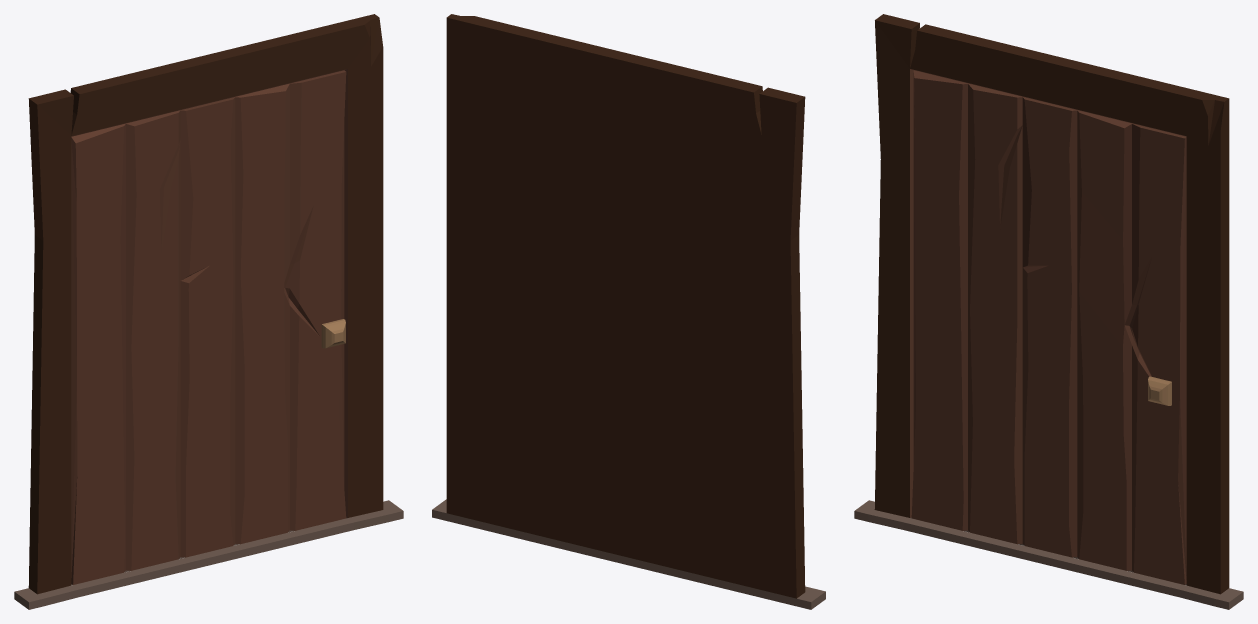
The model's file is tahta_kapi_acilir.fbx.
The picture shows the model from 3 angles, left to right: view 1: azimuth 30°, elevation 25°; view 2: azimuth 150°, elevation 25°; view 3: azimuth 330°, elevation 25°; orthographic projection.
Visible parts, largest first — view 1: Cube.020, Cube.040; view 2: Cube.040; view 3: Cube.020, Cube.040.
Boxes of the visible parts, x1=… form: Cube.020: x1=71, y1=69, x2=347, y2=584; Cube.040: x1=14, y1=14, x2=403, y2=609; Cube.040: x1=432, y1=14, x2=825, y2=609; Cube.020: x1=910, y1=69, x2=1186, y2=584; Cube.040: x1=854, y1=14, x2=1243, y2=609.
Bounding box in the file's own units: 5.81 × 7.37 × 0.5132.
